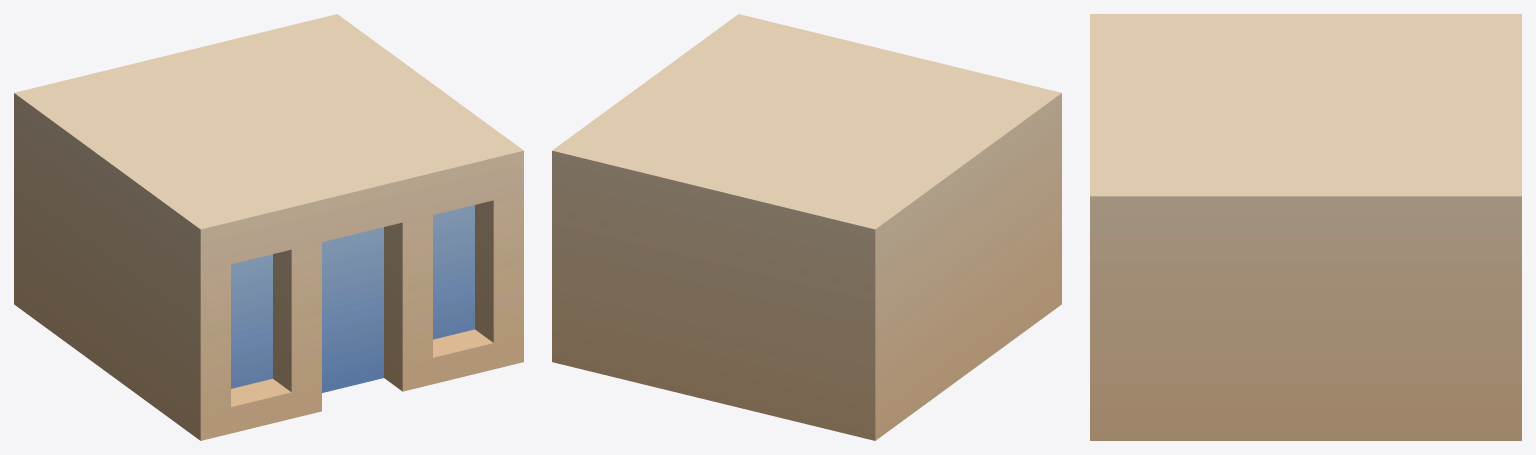
File: kenney-modular-buildings-building-window-door-window.glb
The picture shows the model from 3 angles, left to right: view 1: azimuth 30°, elevation 25°; view 2: azimuth 150°, elevation 25°; view 3: azimuth 270°, elevation 25°; orthographic projection. The views are drawn at different scales.
Visible parts, largest first — view 1: building-window-door-window; view 2: building-window-door-window; view 3: building-window-door-window.
Boxes of the visible parts, x1,y1,x2,y2 form: building-window-door-window: (14, 14, 523, 440); building-window-door-window: (552, 14, 1061, 440); building-window-door-window: (1090, 14, 1521, 440).
Size of the model in its own units: 1 by 0.625 by 1.
1 material, 1 textured.
